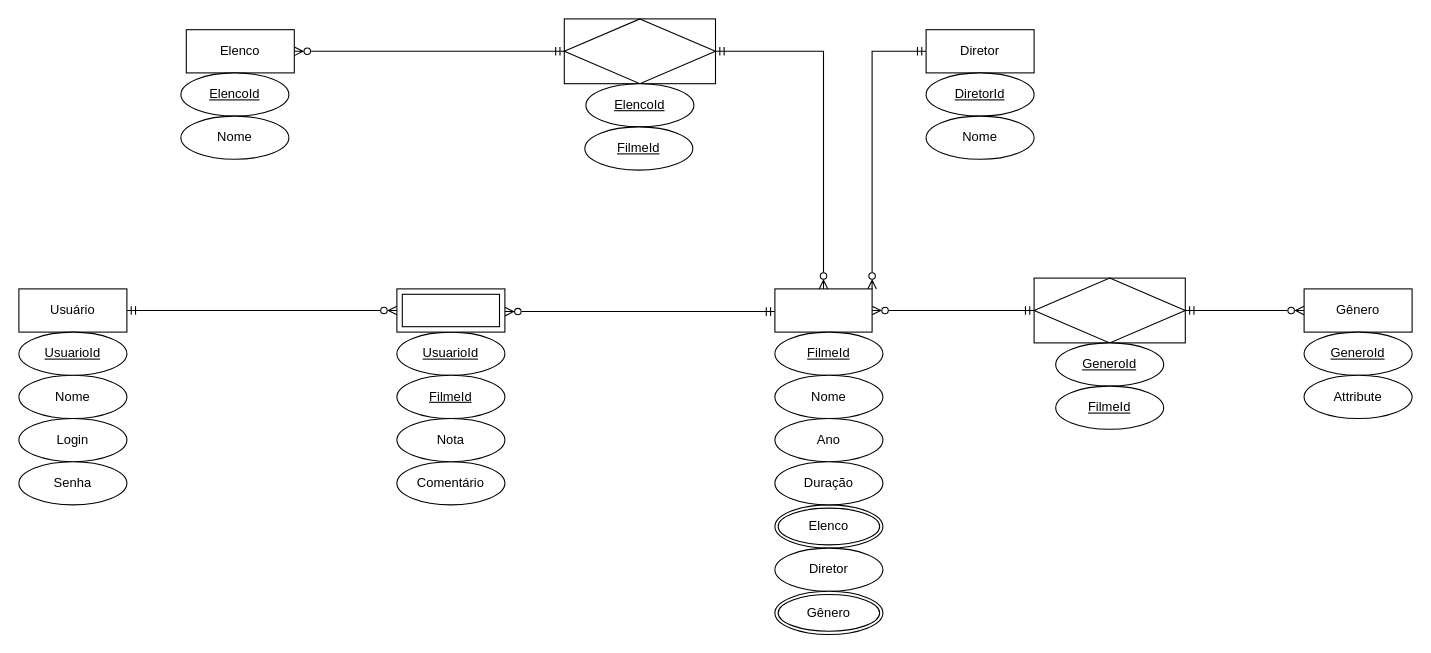
The diagram is 1431 pixels wide and 653 high, and some of its shapes have lost their labels. The centre of each missing label's shape, as x and y in pixels:
"Avaliação" belongs at pixel 450 310.
"Elenco_Filme" belongs at pixel 639 51.
"Filme" belongs at pixel 823 310.
"Genero_Filme" belongs at pixel 1109 310.
